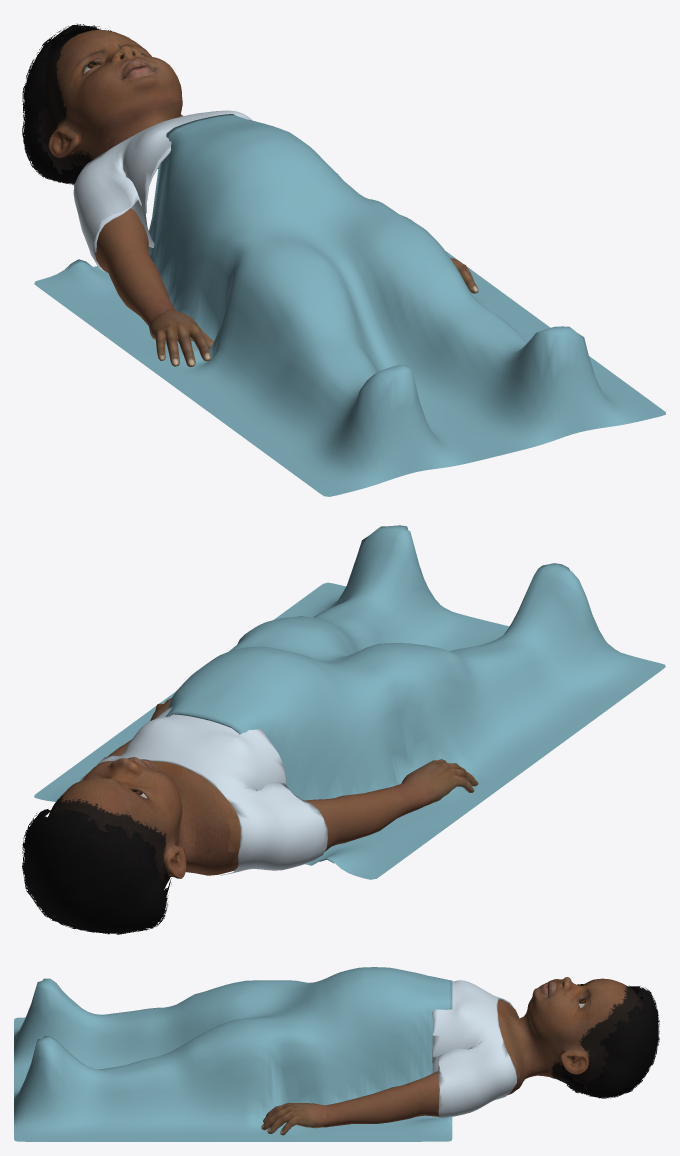
The picture shows the model from 3 angles, top to bottom: view 1: azimuth 30°, elevation 25°; view 2: azimuth 150°, elevation 25°; view 3: azimuth 270°, elevation 25°; orthographic projection. The views are drawn at different scales.
Visible parts, largest first — view 1: sheet, body, arms, gown, hair; view 2: sheet, gown, hair, body, arms; view 3: sheet, body, gown, arms, hair.
Part boxes in pixels (bbox=[...]): sheet: bbox=[34, 114, 665, 496]; body: bbox=[41, 29, 182, 170]; arms: bbox=[95, 208, 478, 366]; gown: bbox=[73, 110, 252, 272]; hair: bbox=[22, 23, 158, 185]; sheet: bbox=[34, 525, 665, 879]; gown: bbox=[80, 706, 327, 875]; hair: bbox=[22, 809, 171, 934]; body: bbox=[48, 757, 238, 888]; arms: bbox=[108, 698, 478, 863]; sheet: bbox=[14, 967, 452, 1141]; body: bbox=[497, 977, 643, 1095]; gown: bbox=[432, 980, 516, 1117]; arms: bbox=[261, 1054, 519, 1135]; hair: bbox=[563, 985, 659, 1098].
Size of the model in its own units: 0.3999 by 0.1609 by 0.8862.
Materials: 8 (6 with a texture image).
